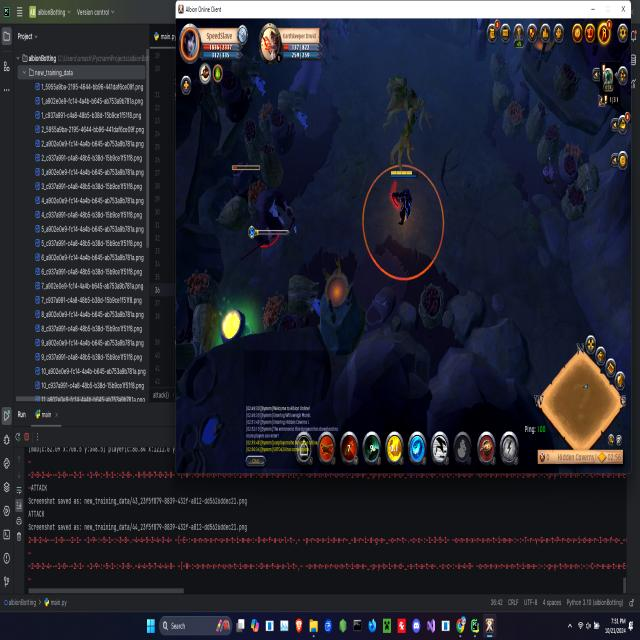fiber: (221, 303, 257, 341)
ore: (226, 160, 296, 247), (380, 66, 435, 172), (317, 21, 343, 67), (468, 20, 495, 64)
red: (388, 170, 418, 230)
silver: (363, 162, 444, 283)
